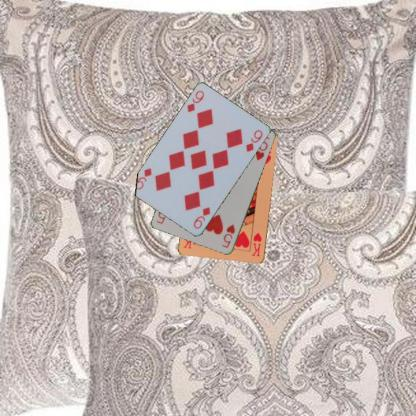5h: (220, 222, 236, 249)
9d: (190, 204, 212, 230), (184, 88, 205, 114)
Kh: (249, 230, 263, 258)
